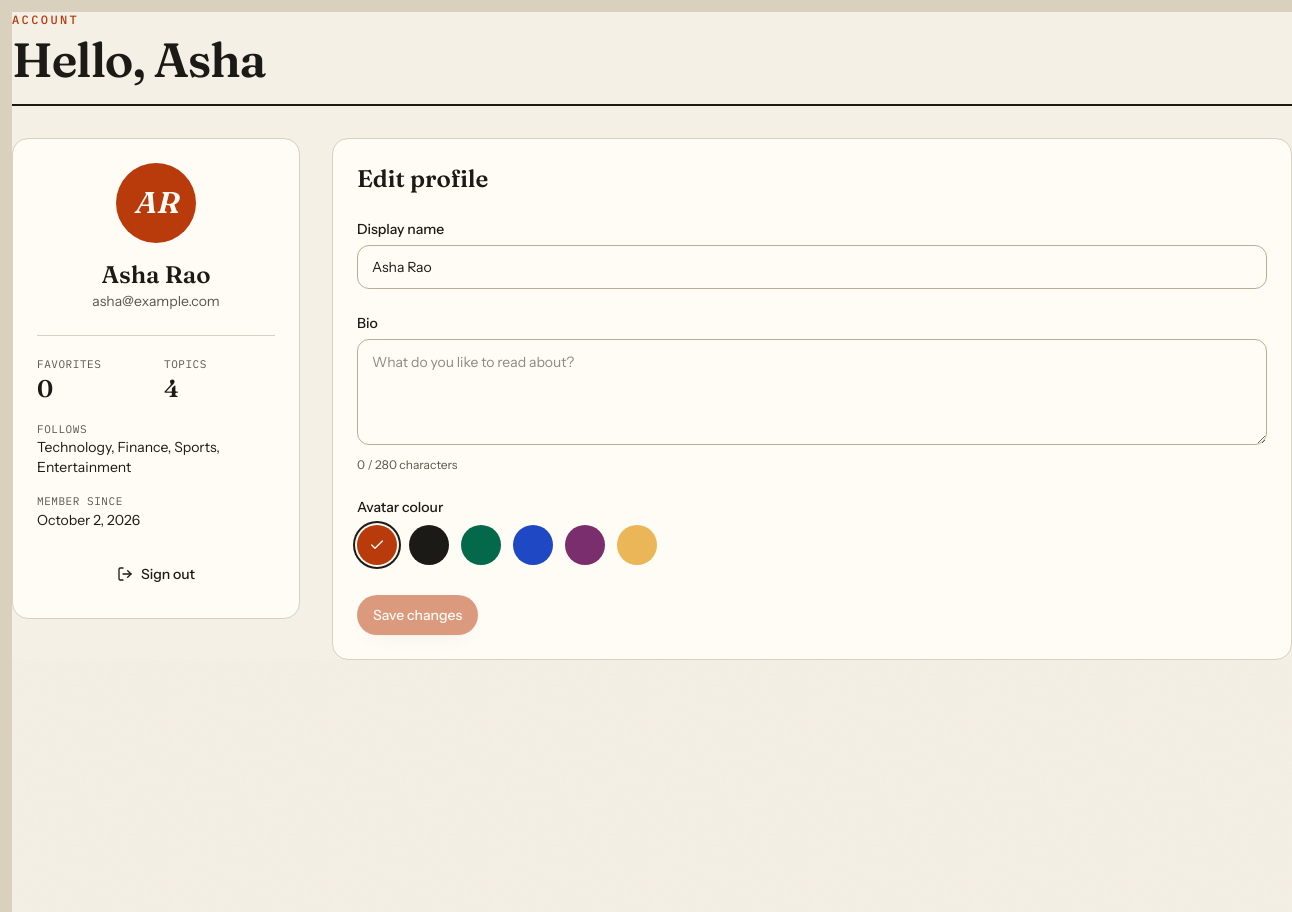
ProfileView (integration) › edits and saves the profile
This screenshot has width=1292, height=912.
Expected: the button "Save changes" is disabled, [357,595,478,635]
Replace the text in the field labelled "Display name" with "Asha R." at coordinates (812, 267), box [357,245,1267,289]
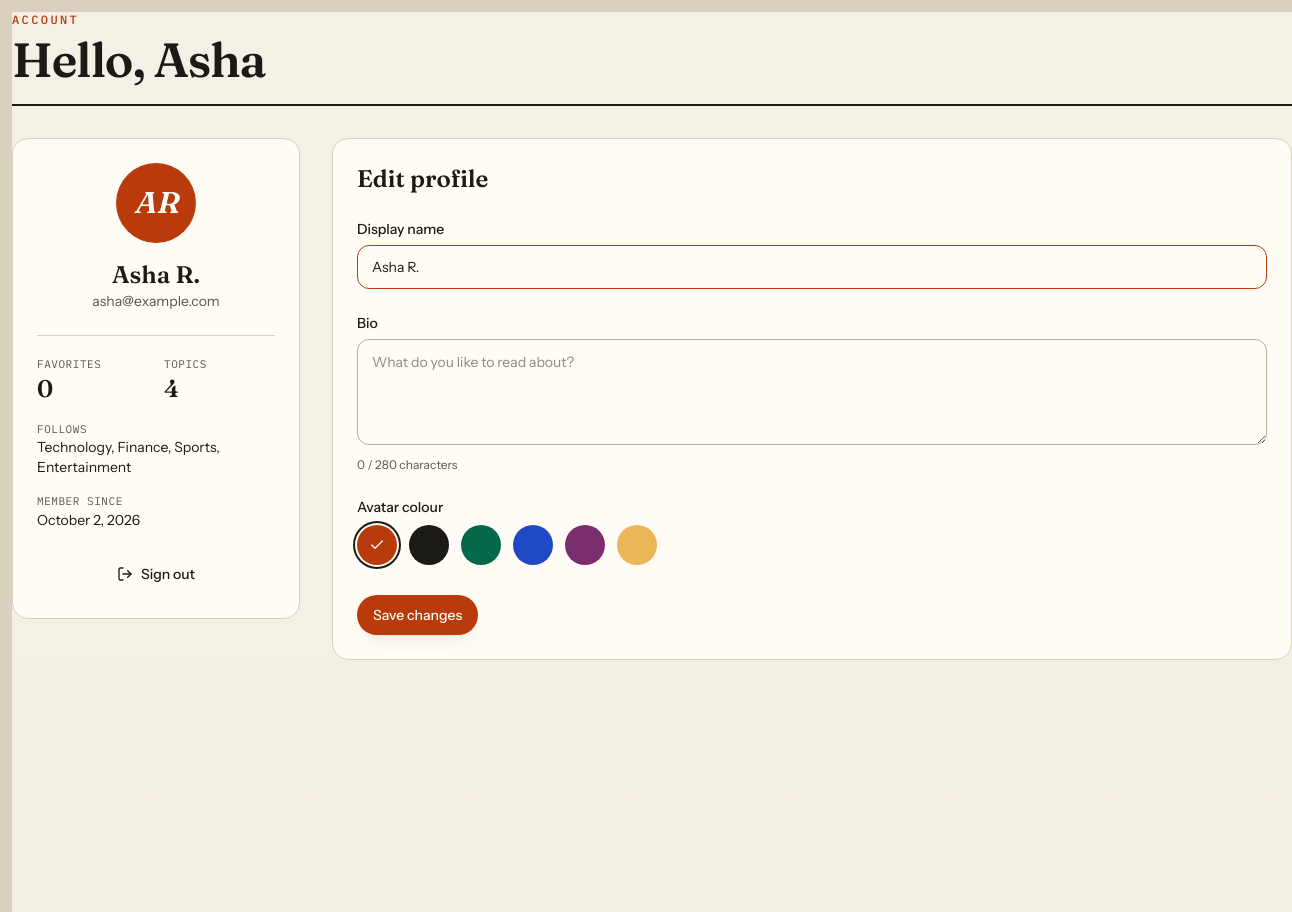
Type "Space and cricket." into the text box labelled "Bio" at coordinates (812, 392), box [357,339,1267,445]
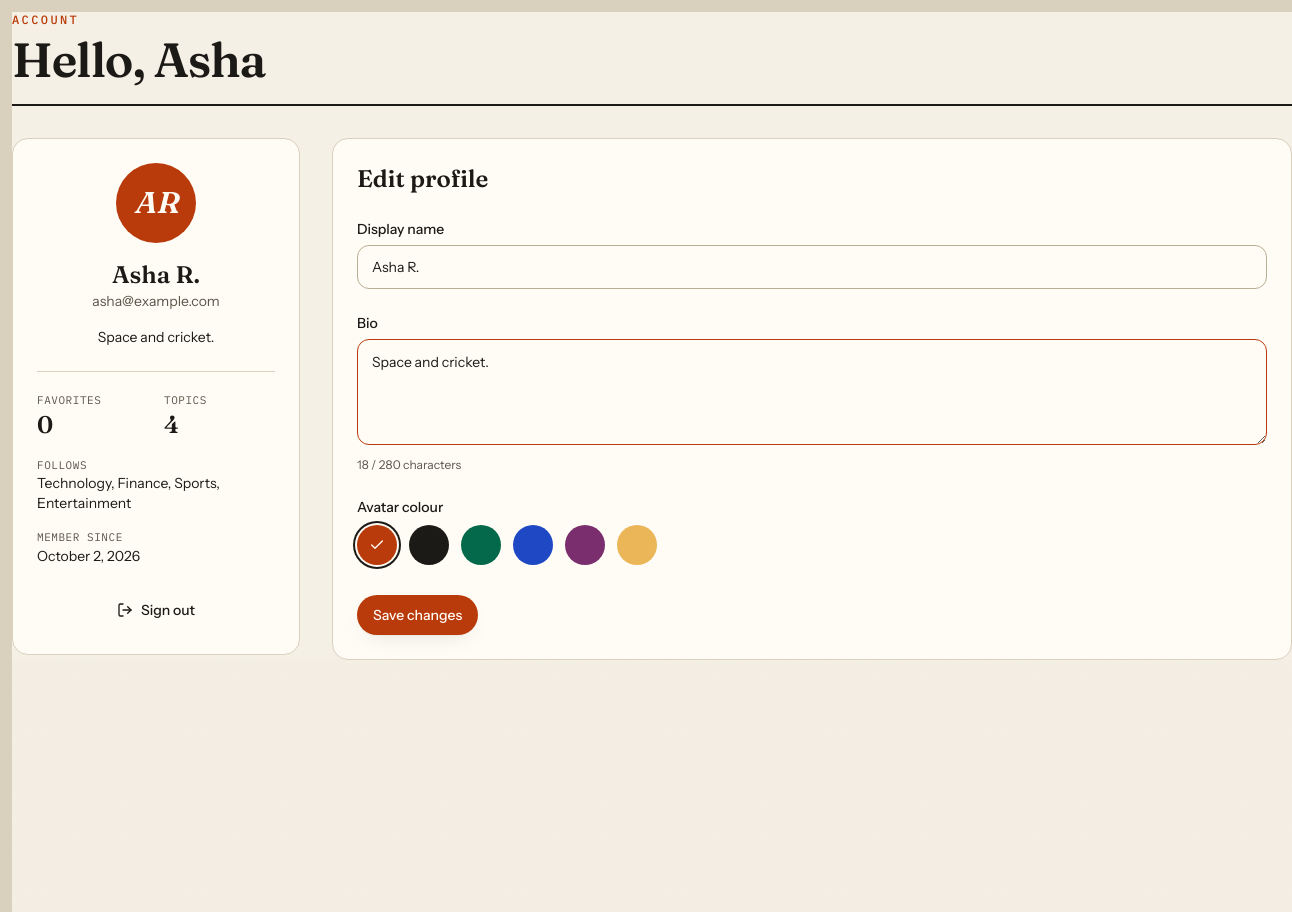
Click the radio button named "ocean" at coordinates (533, 548), box [513,525,553,571]
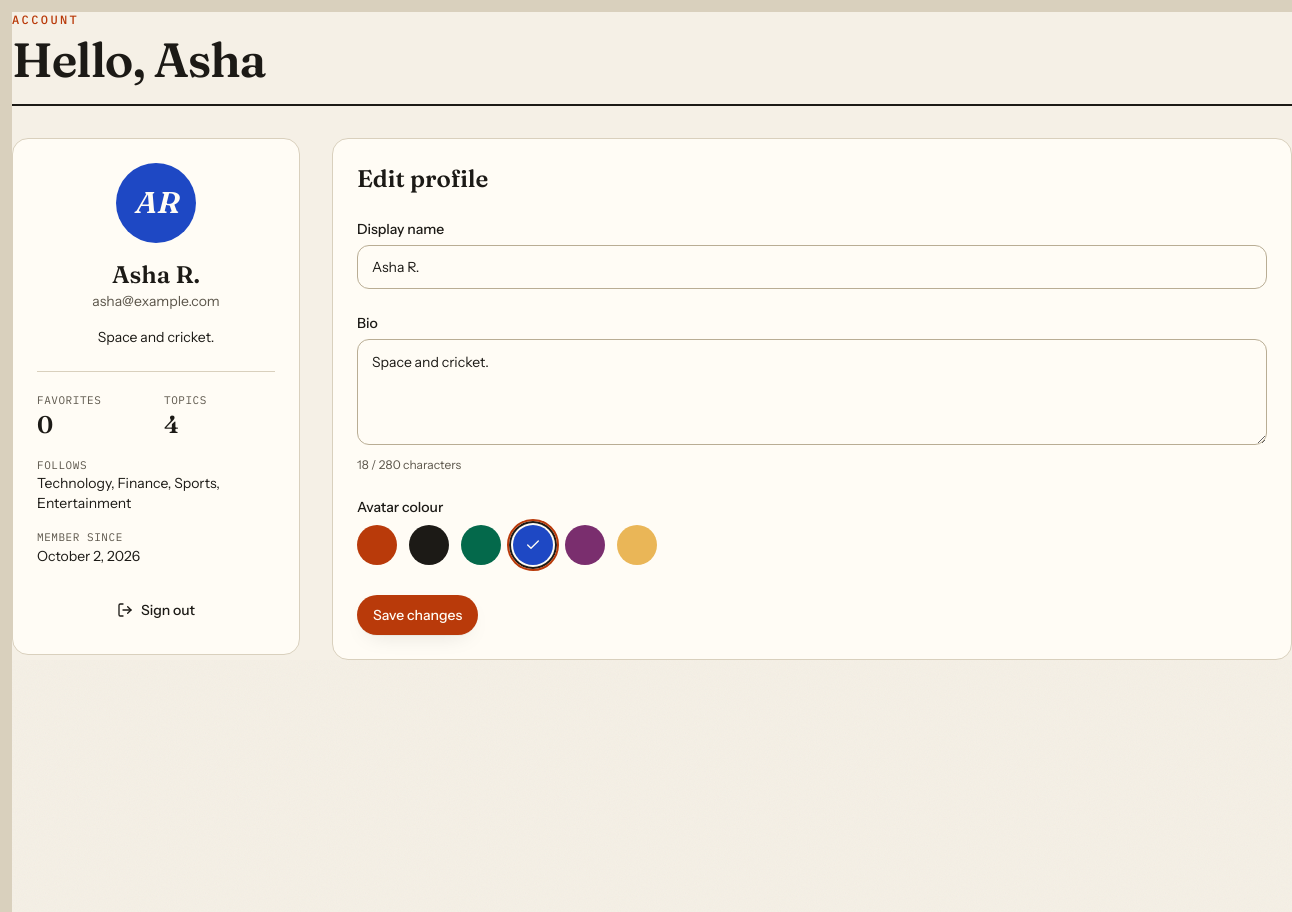
Click the button "Save changes" at coordinates (418, 615), box [357,595,478,635]
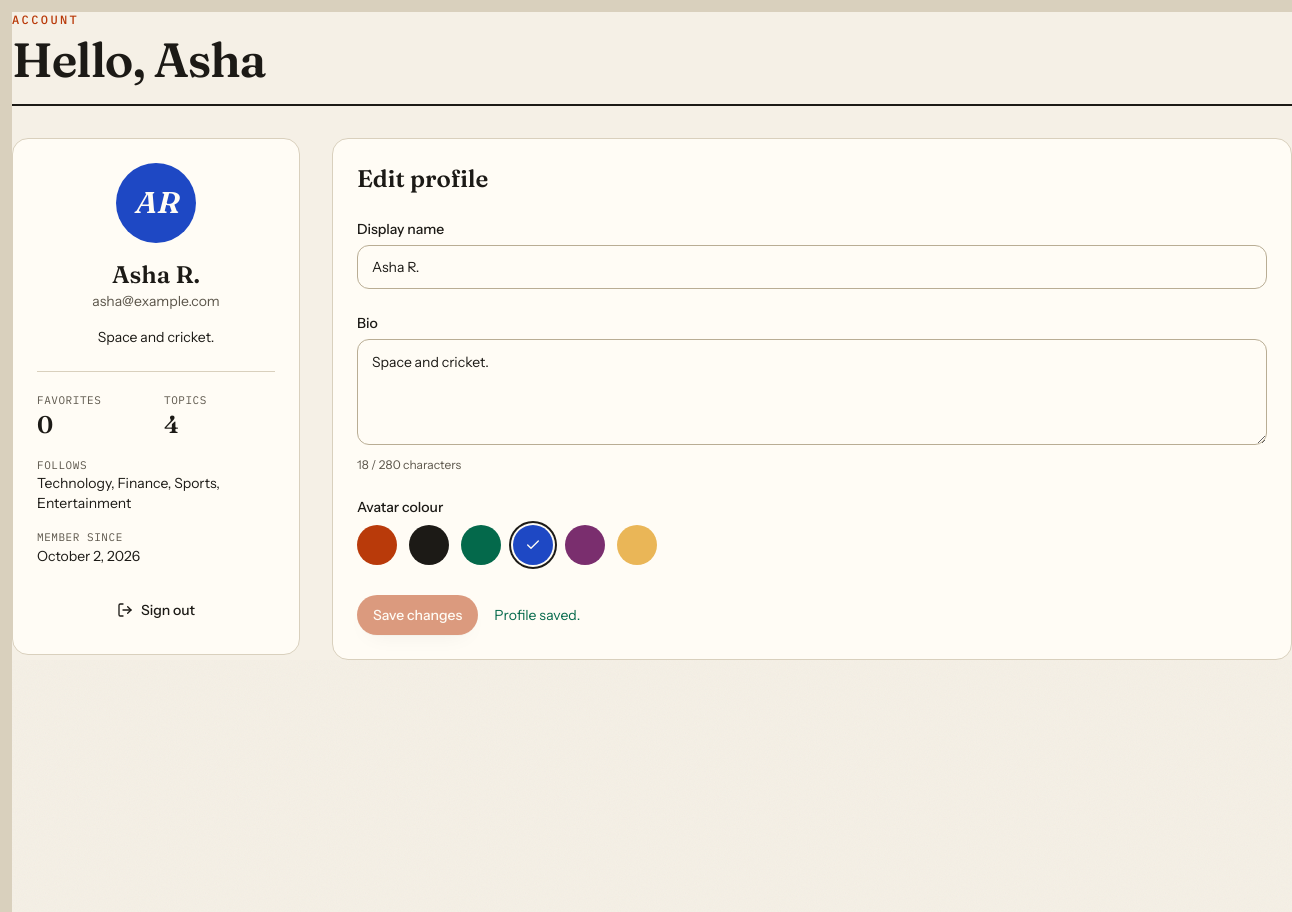
Expected: the text "Profile saved." is shown, [494,605,580,625]
